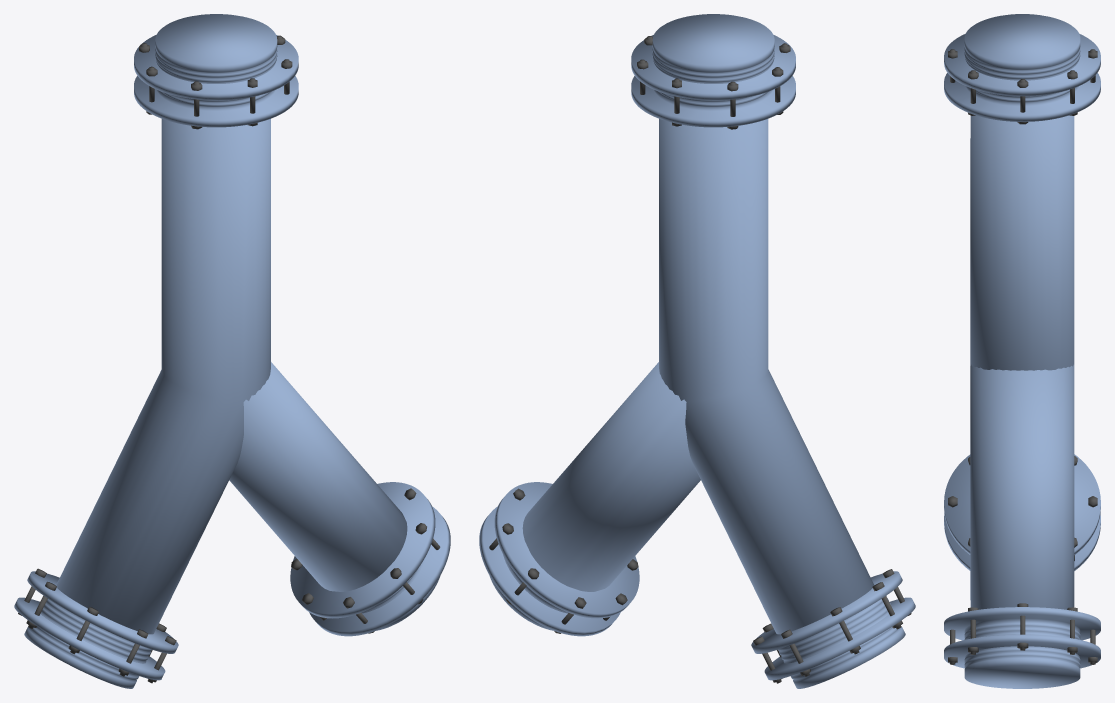
File: y-strainer.glb
3 views of the same model, side by side, from view 1: azimuth 30°, elevation 25°; view 2: azimuth 150°, elevation 25°; view 3: azimuth 270°, elevation 25° (orthographic). The views are drawn at different scales.
Parts seen in each view (by area): view 1: shapes3d66-1060089-7-687, Obj3d66-1060089-1690-103, Obj3d66-1060089-1692-580, Obj3d66-1060089-1695-573, Obj3d66-1060089-1694-390, Obj3d66-1060089-1691-991, Obj3d66-1060089-1693-552; view 2: shapes3d66-1060089-7-687, Obj3d66-1060089-1690-103, Obj3d66-1060089-1692-580, Obj3d66-1060089-1695-573, Obj3d66-1060089-1694-390, Obj3d66-1060089-1691-991, Obj3d66-1060089-1693-552; view 3: shapes3d66-1060089-7-687, Obj3d66-1060089-1690-103, Obj3d66-1060089-1692-580, Obj3d66-1060089-1695-573, Obj3d66-1060089-1693-552, Obj3d66-1060089-1691-991, Obj3d66-1060089-1694-390.
Boxes of the visible parts, x1,y1,x2,y2 form: shapes3d66-1060089-7-687: (56,119,407,634); Obj3d66-1060089-1690-103: (134,14,298,127); Obj3d66-1060089-1692-580: (290,482,450,636); Obj3d66-1060089-1695-573: (14,571,178,688); Obj3d66-1060089-1694-390: (18,568,176,683); Obj3d66-1060089-1691-991: (139,35,292,129); Obj3d66-1060089-1693-552: (291,488,440,633); shapes3d66-1060089-7-687: (522,119,874,634); Obj3d66-1060089-1690-103: (631,14,795,127); Obj3d66-1060089-1692-580: (479,482,639,636); Obj3d66-1060089-1695-573: (751,571,915,688); Obj3d66-1060089-1694-390: (753,569,911,683); Obj3d66-1060089-1691-991: (637,36,790,129); Obj3d66-1060089-1693-552: (489,488,638,633); shapes3d66-1060089-7-687: (970,115,1074,609); Obj3d66-1060089-1690-103: (944,14,1100,121); Obj3d66-1060089-1692-580: (944,607,1100,688); Obj3d66-1060089-1695-573: (944,454,1100,570); Obj3d66-1060089-1693-552: (948,603,1097,664); Obj3d66-1060089-1691-991: (948,49,1097,124); Obj3d66-1060089-1694-390: (948,456,1097,560).
Size of the model in its own units: 3511 by 5054 by 1220.
